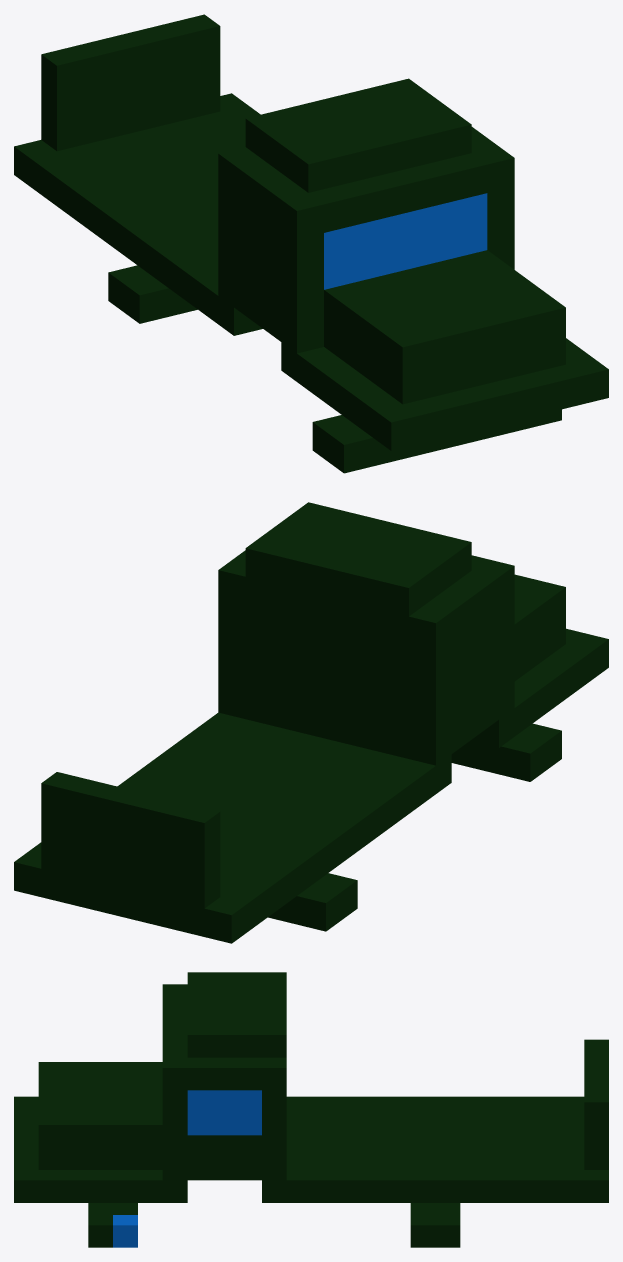
The model's file is SupplyTruck-1.obj.
3 views of the same model, one above another, from view 1: azimuth 30°, elevation 25°; view 2: azimuth 150°, elevation 25°; view 3: azimuth 270°, elevation 25° (orthographic). The views are drawn at different scales.
Parts seen in each view (by area): view 1: SupplyTruck-1; view 2: SupplyTruck-1; view 3: SupplyTruck-1.
Boxes of the visible parts, x1,y1,x2,y2 form: SupplyTruck-1: (14, 14, 608, 473); SupplyTruck-1: (14, 502, 608, 943); SupplyTruck-1: (14, 972, 608, 1247).
Size of the model in its own units: 8 by 9 by 24.
1 material, 1 textured.
